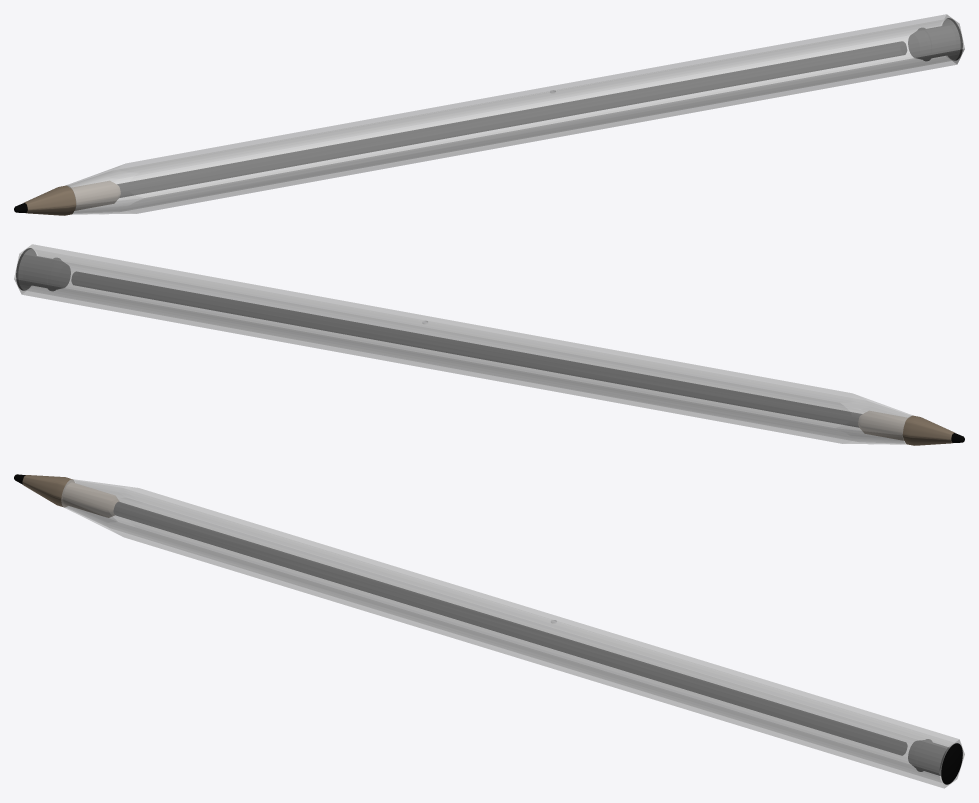
File: municion.fbx
The picture shows the model from 3 angles, top to bottom: view 1: azimuth 30°, elevation 25°; view 2: azimuth 150°, elevation 25°; view 3: azimuth 330°, elevation 25°; orthographic projection.
Visible parts, largest first — view 1: Body, Ink tube, Tip 2, low cap; view 2: Body, Ink tube, Tip 2, low cap; view 3: Body, Ink tube, Tip 2, low cap.
Boxes of the visible parts, left/top/right/bottom form: Body: left=66, top=14, right=964, bottom=214; Ink tube: left=117, top=41, right=906, bottom=197; Tip 2: left=24, top=181, right=120, bottom=215; low cap: left=908, top=18, right=962, bottom=60; Body: left=14, top=244, right=912, bottom=444; Ink tube: left=71, top=271, right=861, bottom=427; Tip 2: left=858, top=411, right=954, bottom=445; low cap: left=16, top=248, right=70, bottom=290; Body: left=61, top=479, right=964, bottom=788; Ink tube: left=113, top=502, right=907, bottom=755; Tip 2: left=22, top=475, right=119, bottom=517; low cap: left=908, top=739, right=962, bottom=784.
Size of the model in its own units: 1717 by 161 by 81.83.
